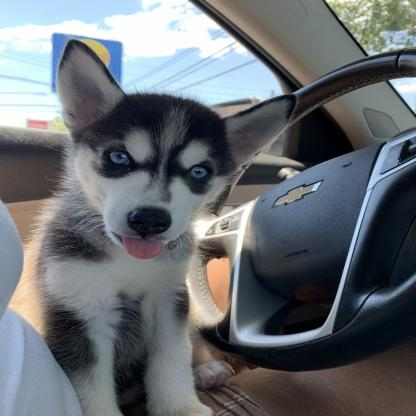husky: (38, 42, 302, 416)
